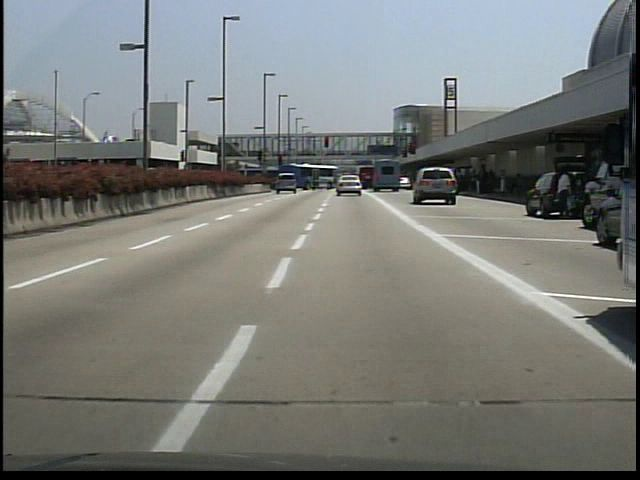person: (552, 169, 573, 220)
